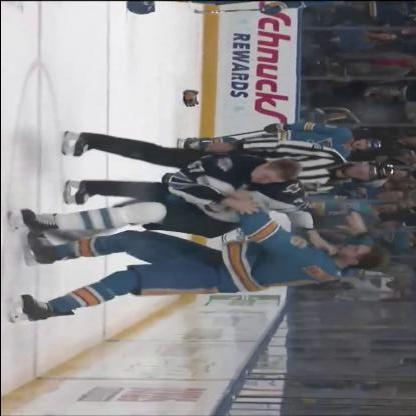voilence: (81, 161, 385, 297)
